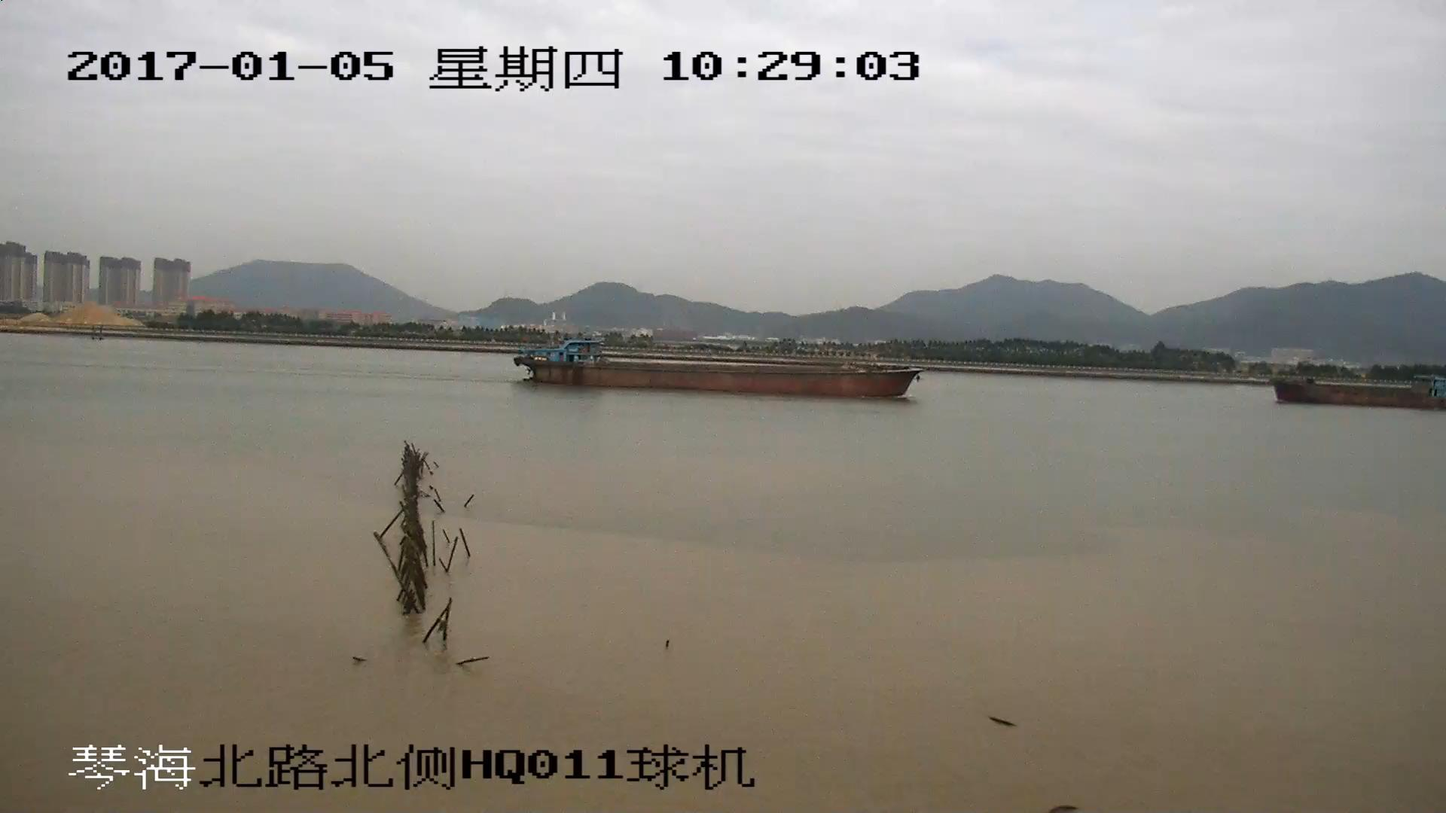bulk cargo carrier: (515, 335, 914, 397), (1274, 369, 1445, 411)
